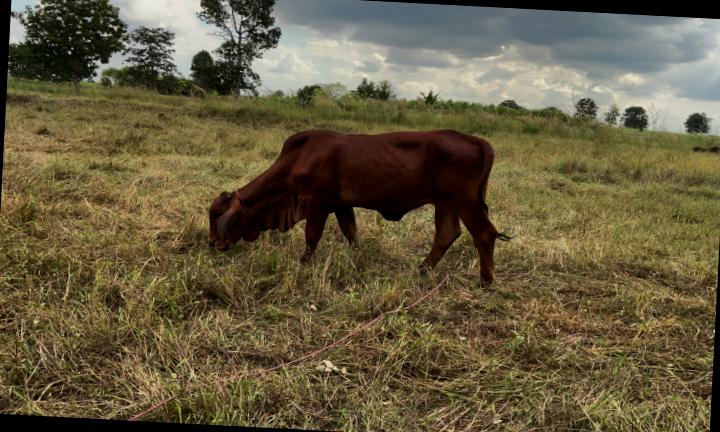Brahman: (208, 129, 506, 280)
